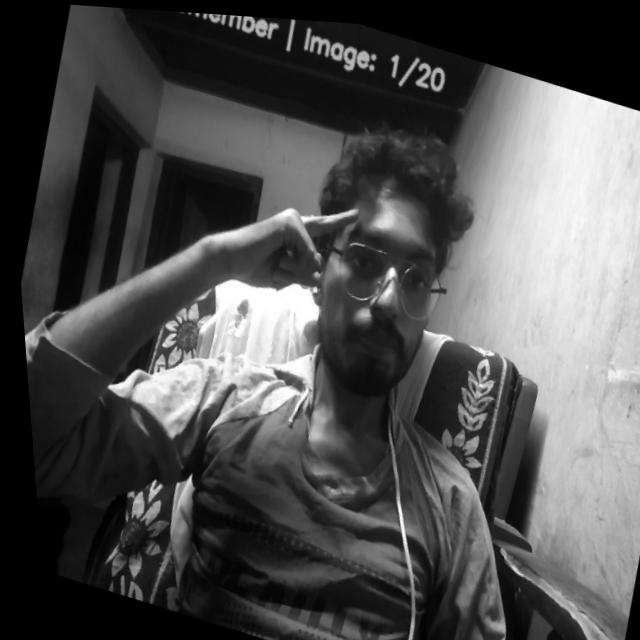Remember: (189, 158, 366, 325)
